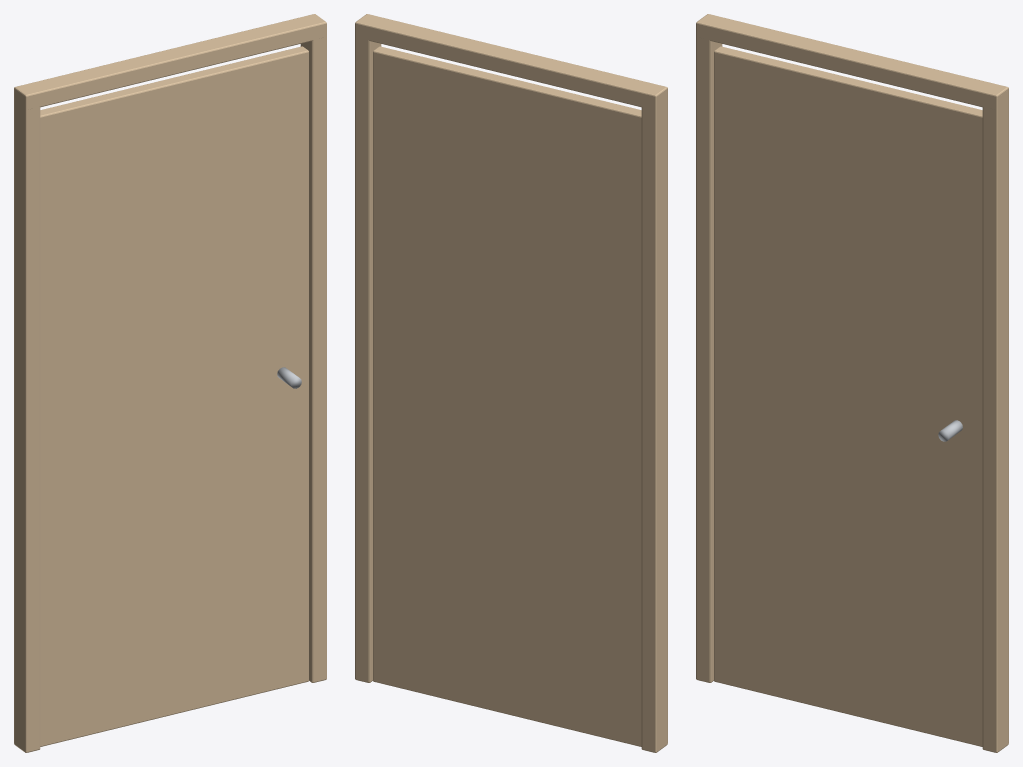
File: classroom_door.glb
3 renders of one model, left to right at view 1: azimuth 30°, elevation 25°; view 2: azimuth 150°, elevation 25°; view 3: azimuth 330°, elevation 25°, orthographic.
Visible parts, largest first — view 1: door_panel, door_frame_l, door_frame_r, door_frame_t; view 2: door_panel, door_frame_l, door_frame_r, door_frame_t; view 3: door_panel, door_frame_r, door_frame_l, door_frame_t.
Boxes of the visible parts, bbox=[...] form: door_panel: bbox=[40, 46, 308, 746]; door_frame_l: bbox=[14, 90, 40, 752]; door_frame_r: bbox=[300, 36, 326, 682]; door_frame_t: bbox=[14, 14, 326, 109]; door_panel: bbox=[373, 46, 641, 746]; door_frame_l: bbox=[641, 90, 667, 752]; door_frame_r: bbox=[355, 25, 381, 682]; door_frame_t: bbox=[355, 14, 667, 109]; door_panel: bbox=[714, 46, 982, 746]; door_frame_r: bbox=[982, 90, 1008, 752]; door_frame_l: bbox=[696, 36, 722, 682]; door_frame_t: bbox=[696, 14, 1008, 109].
Bounding box in the file's own units: 1 × 2.08 × 0.135.
